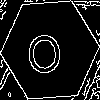O: (25, 25, 63, 74)
